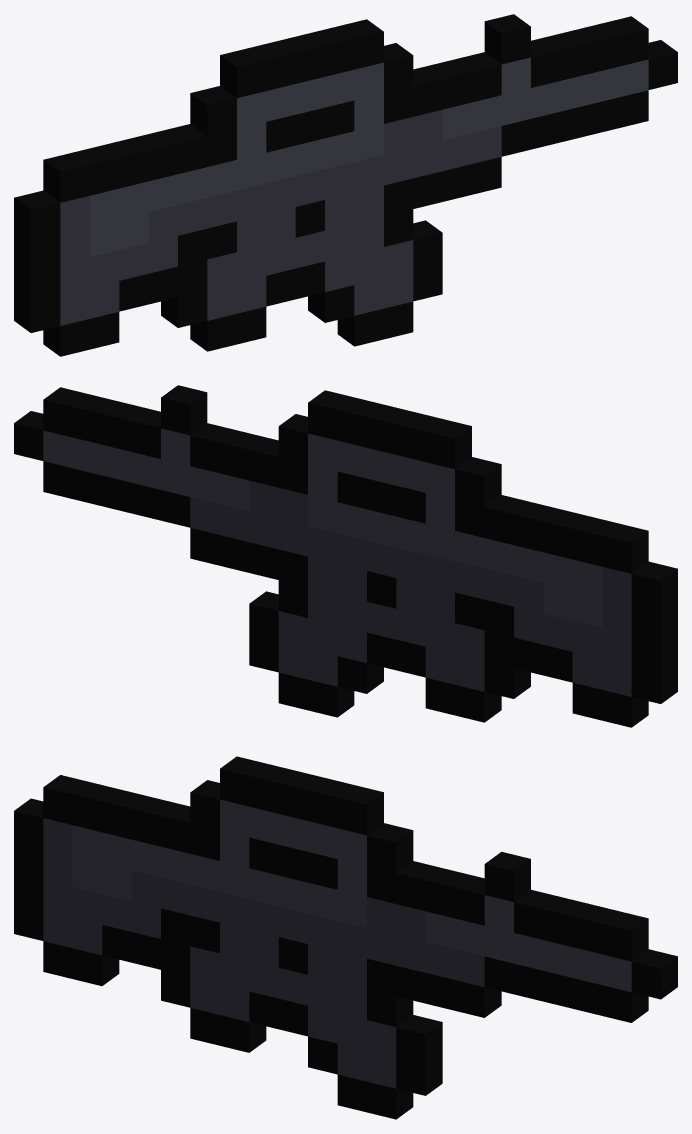
3 views of the same model, one above another, from view 1: azimuth 30°, elevation 25°; view 2: azimuth 150°, elevation 25°; view 3: azimuth 330°, elevation 25° (orthographic).
Visible parts, largest first — view 1: generated(Clone); view 2: generated(Clone); view 3: generated(Clone).
Part boxes in pixels (bbox=[...]): generated(Clone): bbox=[14, 14, 677, 356]; generated(Clone): bbox=[14, 385, 677, 727]; generated(Clone): bbox=[14, 756, 677, 1119].
Size of the model in its own units: 22 by 10 by 1.
1 material, 1 textured.
